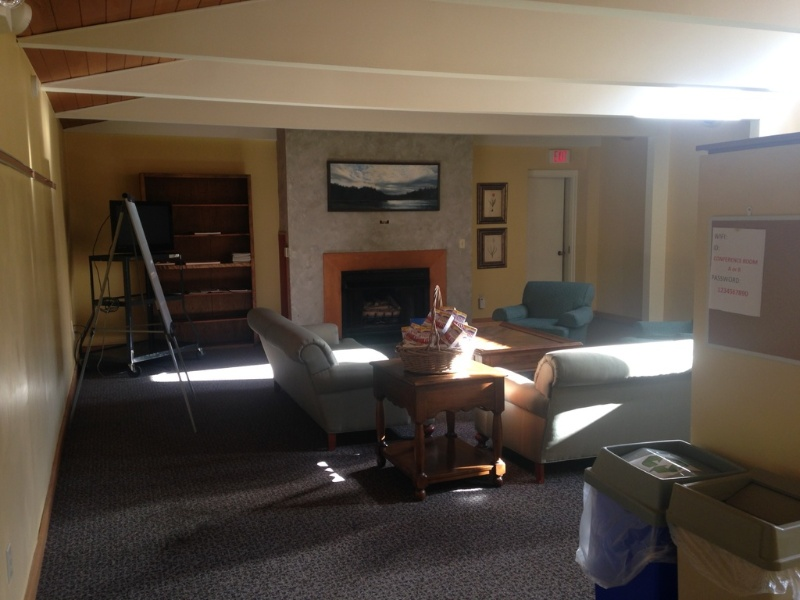couch: (495, 354, 669, 480), (239, 302, 377, 446)
